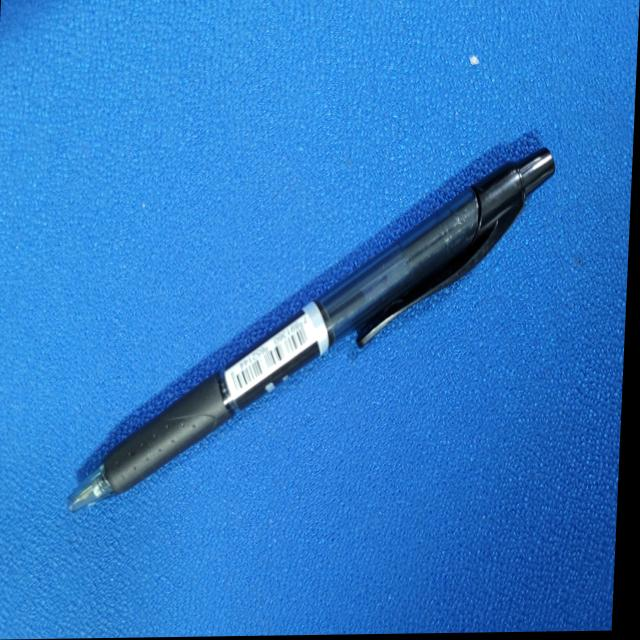caneta: (57, 140, 567, 530)
